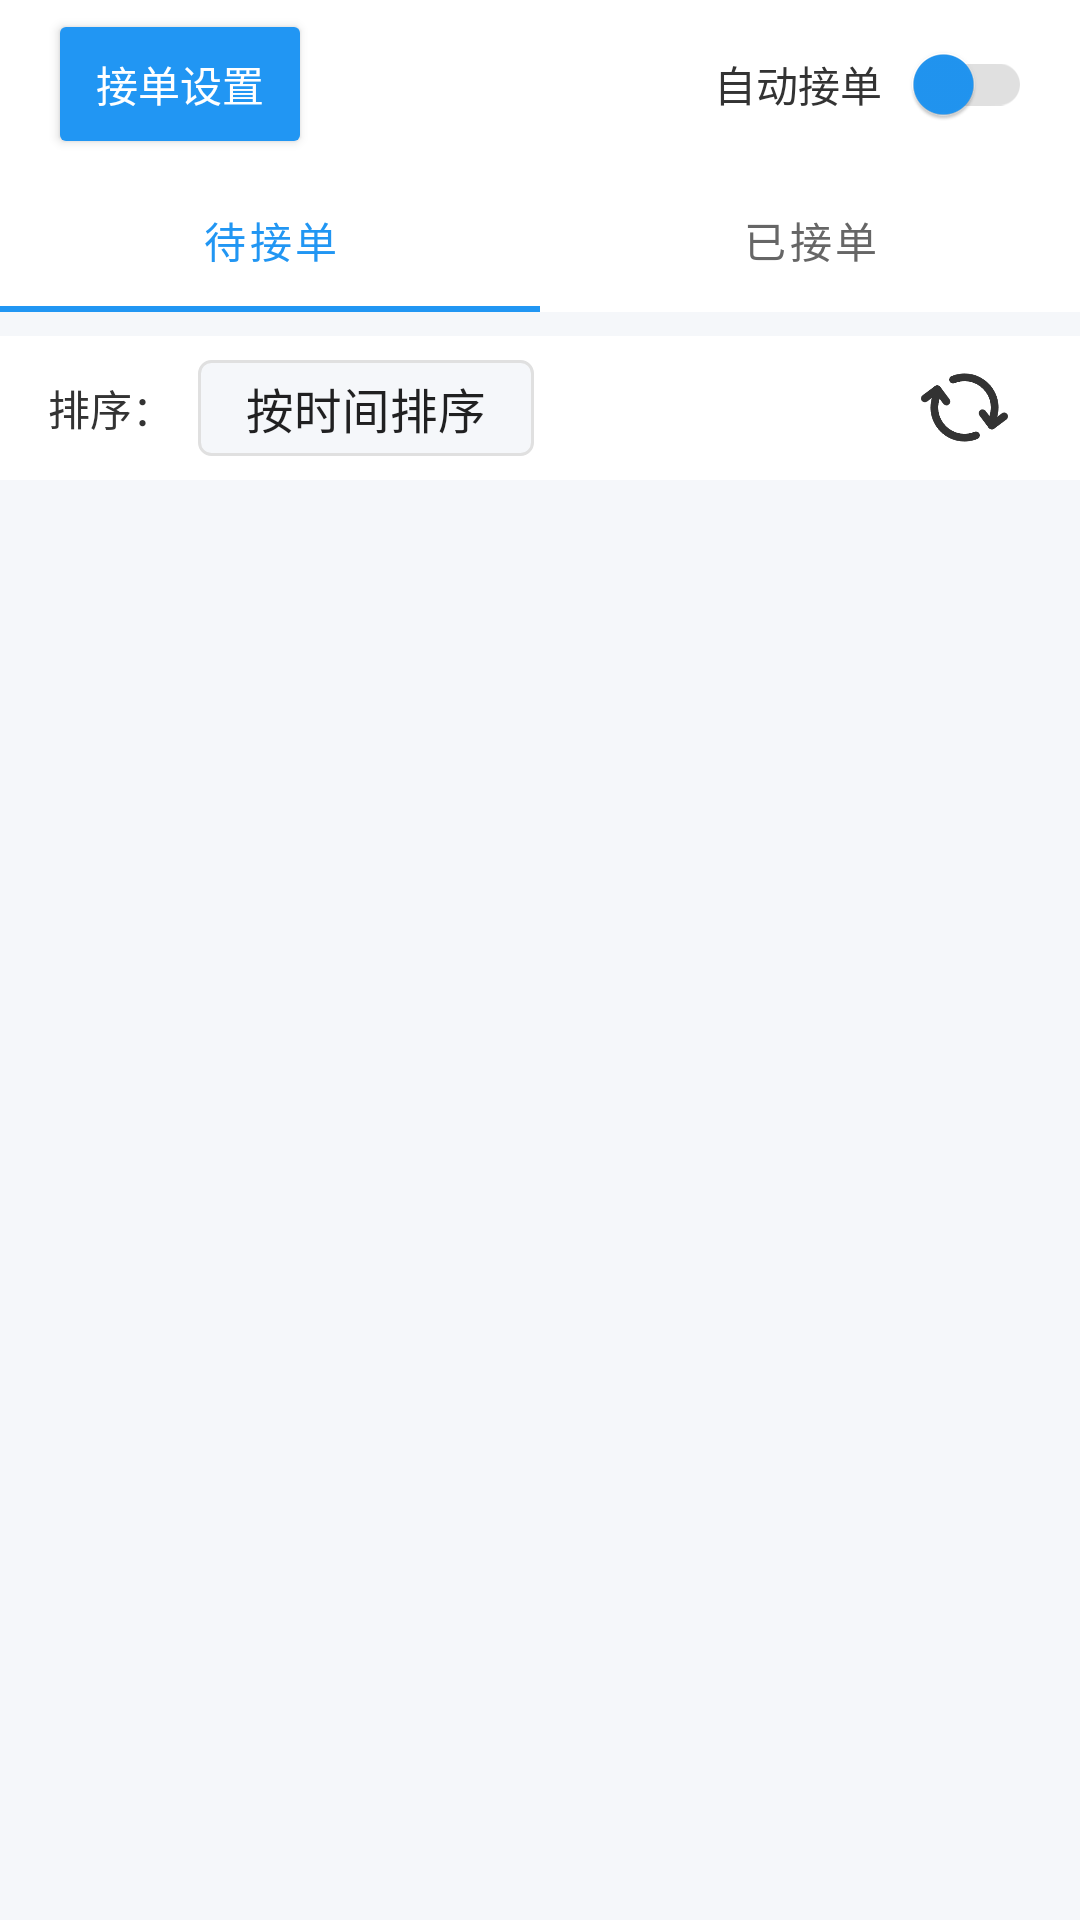

Where to tap for icons on this 1080x1920 app screen, as [x,y]:
refresh: [964,407]
